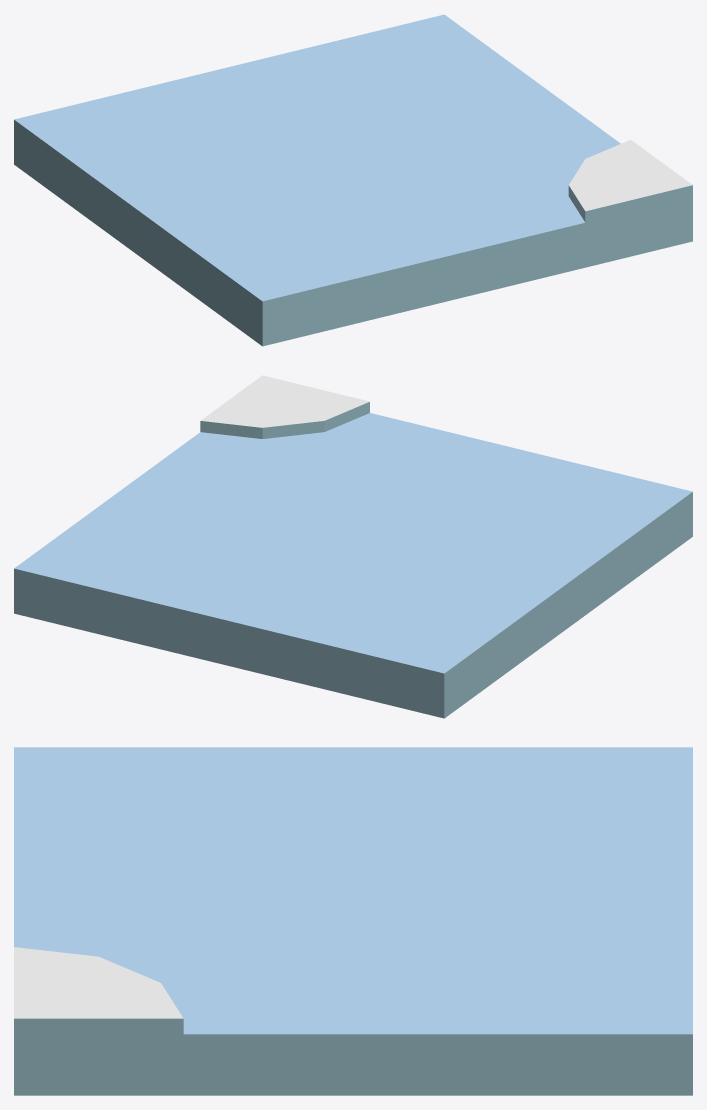
Rendered from Terrain_Tile_Ice_Snow_Water_Bank_Corner_04.fbx.
3 views of the same model, one above another, from view 1: azimuth 30°, elevation 25°; view 2: azimuth 150°, elevation 25°; view 3: azimuth 270°, elevation 25° (orthographic). The views are drawn at different scales.
Visible parts, largest first — view 1: Terrain_Tile_Ice_Snow_Water_Bank_Corner_04; view 2: Terrain_Tile_Ice_Snow_Water_Bank_Corner_04; view 3: Terrain_Tile_Ice_Snow_Water_Bank_Corner_04.
Part boxes in pixels (x1,y1,x2,y2): Terrain_Tile_Ice_Snow_Water_Bank_Corner_04: (14,14,692,346); Terrain_Tile_Ice_Snow_Water_Bank_Corner_04: (14,375,692,718); Terrain_Tile_Ice_Snow_Water_Bank_Corner_04: (14,747,692,1095).
Bounding box in the file's own units: 126 × 15.75 × 126.
